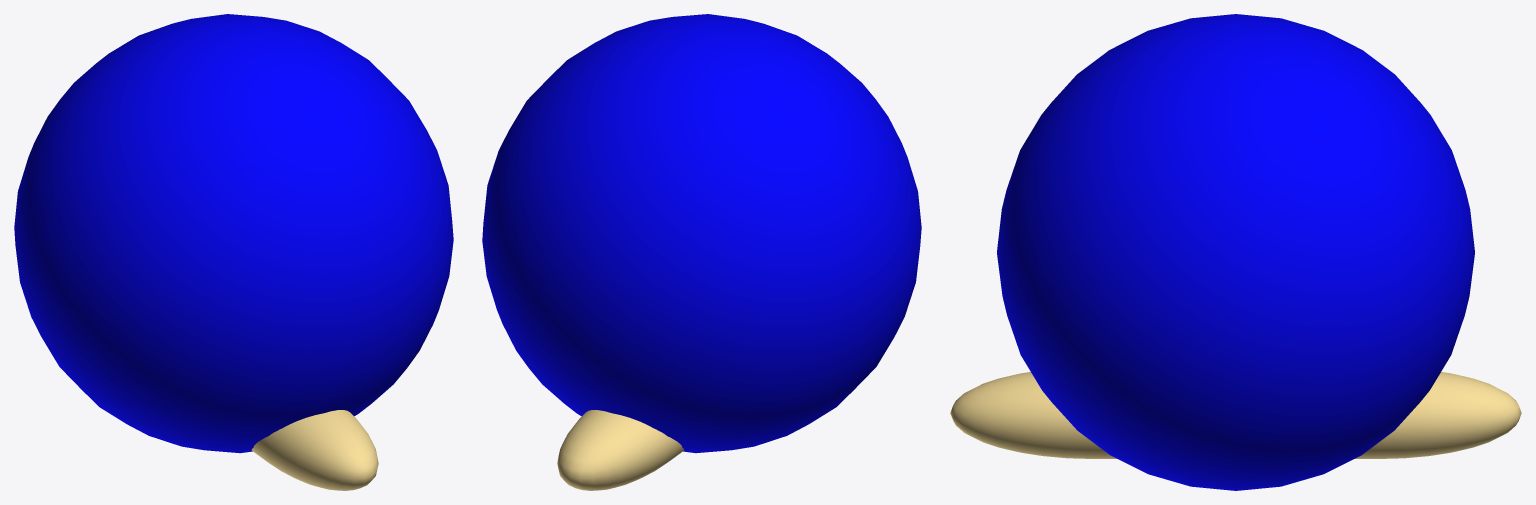
3 renders of one model, left to right at view 1: azimuth 30°, elevation 25°; view 2: azimuth 150°, elevation 25°; view 3: azimuth 270°, elevation 25°, orthographic. The views are drawn at different scales.
Parts seen in each view (by area): view 1: 飞羽_黄, Capsule; view 2: 飞羽_黄, Capsule; view 3: 飞羽_黄, Capsule.
Boxes of the visible parts, x1,y1,x2,y2 form: 飞羽_黄: (14,14,453,453); Capsule: (252,410,378,490); 飞羽_黄: (482,14,921,453); Capsule: (557,410,683,490); 飞羽_黄: (997,14,1474,490); Capsule: (950,372,1521,458).
Size of the model in its own units: 0.5 by 0.5 by 0.5973.
